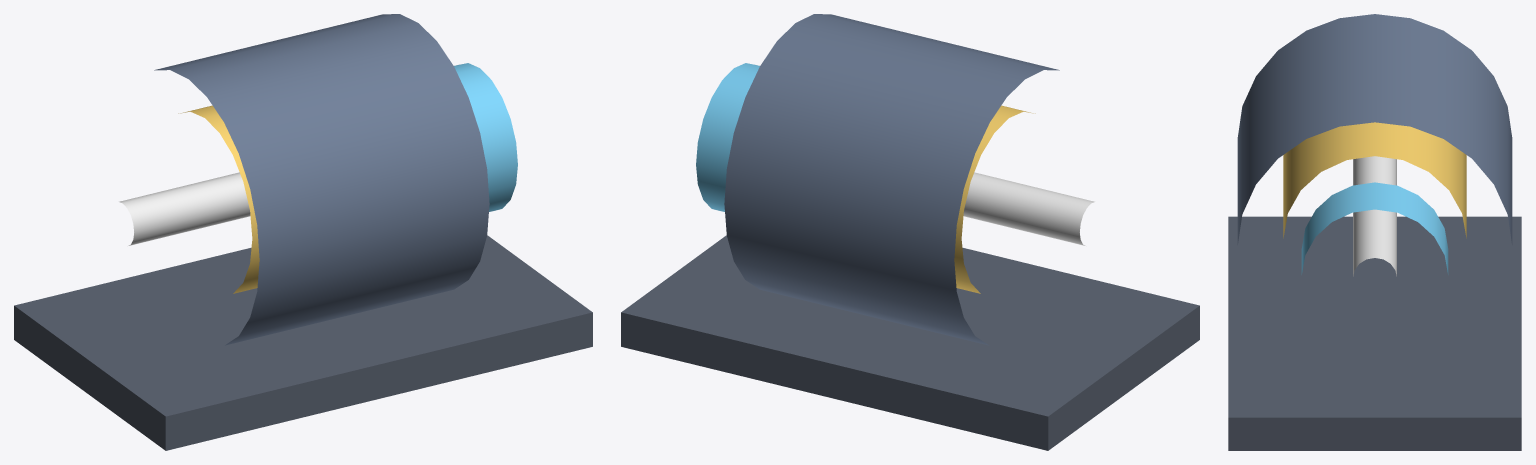
The model's file is electrical_machines_2.glb.
The picture shows the model from 3 angles, left to right: view 1: azimuth 30°, elevation 25°; view 2: azimuth 150°, elevation 25°; view 3: azimuth 270°, elevation 25°; orthographic projection. The views are drawn at different scales.
Visible parts, largest first — view 1: InductionStatorHousing, MountingBedBase, RotorDriveShaft, SynchronousFieldExciter, SquirrelCageRotor; view 2: InductionStatorHousing, MountingBedBase, RotorDriveShaft, SynchronousFieldExciter, SquirrelCageRotor; view 3: MountingBedBase, InductionStatorHousing, SquirrelCageRotor, SynchronousFieldExciter, RotorDriveShaft.
Boxes of the visible parts, x1=… form: InductionStatorHousing: x1=154, y1=14, x2=489, y2=345; MountingBedBase: x1=14, y1=235, x2=592, y2=450; RotorDriveShaft: x1=119, y1=172, x2=250, y2=245; SynchronousFieldExciter: x1=454, y1=63, x2=517, y2=211; SquirrelCageRotor: x1=178, y1=105, x2=259, y2=293; InductionStatorHousing: x1=724, y1=14, x2=1059, y2=345; MountingBedBase: x1=621, y1=235, x2=1199, y2=450; RotorDriveShaft: x1=963, y1=172, x2=1094, y2=245; SynchronousFieldExciter: x1=696, y1=63, x2=759, y2=211; SquirrelCageRotor: x1=954, y1=105, x2=1035, y2=293; MountingBedBase: x1=1228, y1=216, x2=1521, y2=450; InductionStatorHousing: x1=1237, y1=14, x2=1512, y2=244; SquirrelCageRotor: x1=1283, y1=122, x2=1466, y2=238; SynchronousFieldExciter: x1=1301, y1=182, x2=1448, y2=274; RotorDriveShaft: x1=1353, y1=156, x2=1396, y2=276.
Size of the model in its own units: 2.6 by 1.7 by 1.6.
